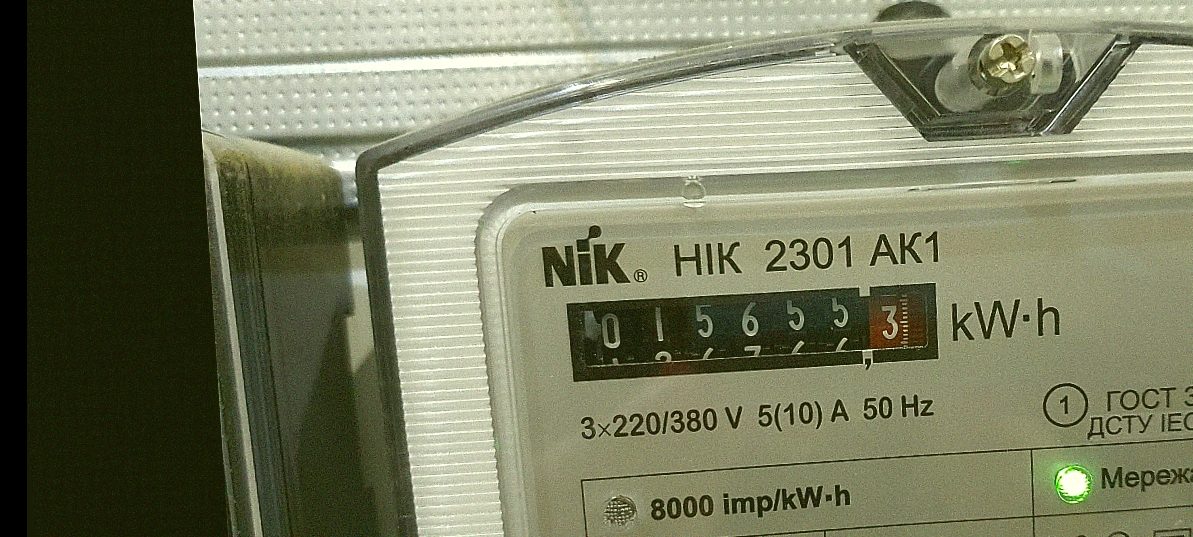0: (596, 308, 624, 351)
1: (648, 305, 669, 344)
3: (878, 303, 900, 340)
5: (690, 303, 717, 339), (783, 299, 808, 332), (830, 296, 851, 329)
6: (737, 301, 762, 338)
screen: (551, 263, 955, 399)
